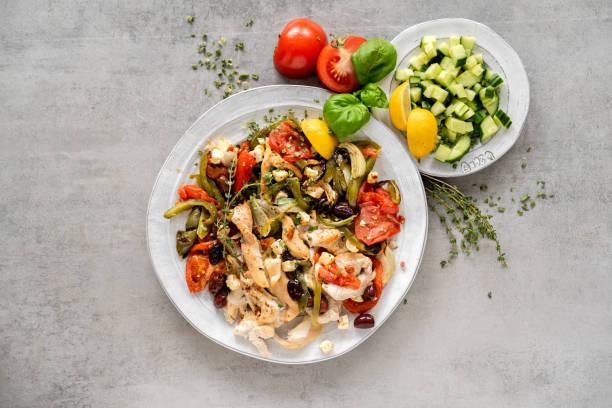Braised Crucian Carp: (145, 85, 425, 363), (377, 16, 529, 178)
